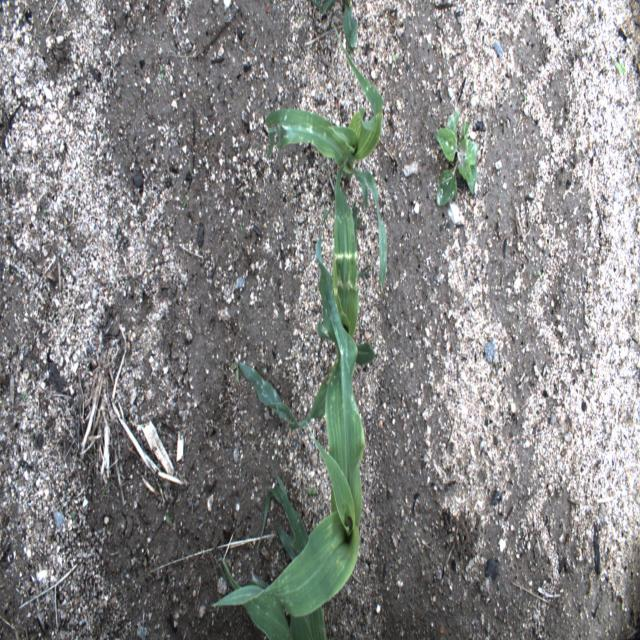crop: (211, 231, 368, 637), (234, 149, 377, 431), (264, 28, 387, 293), (256, 474, 330, 636)
weed: (435, 113, 478, 208), (306, 1, 358, 46), (158, 62, 164, 80)
